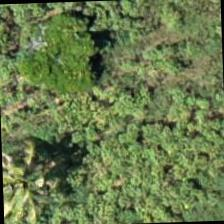Kelapa_Sawit: (0, 130, 62, 222)
